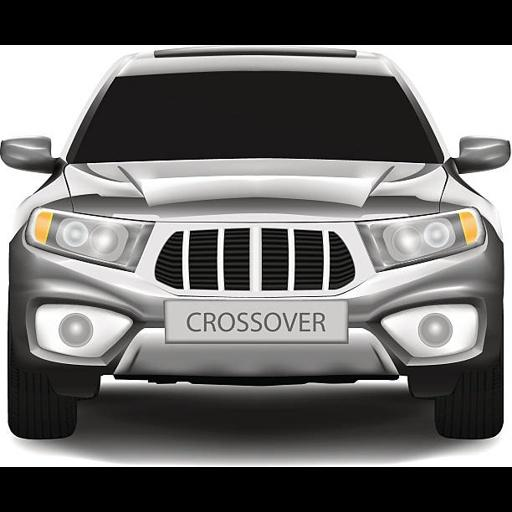suv: (0, 45, 508, 438)
